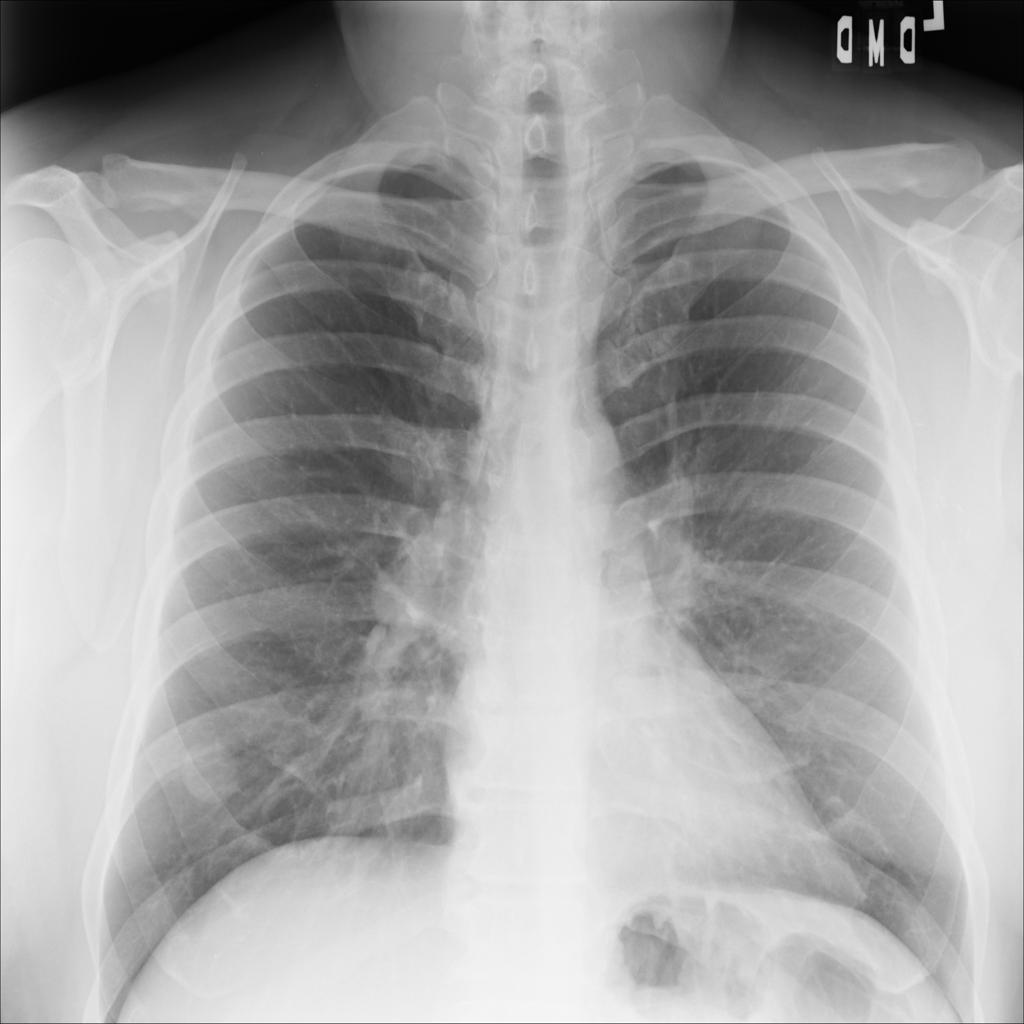nodule: (163, 712, 262, 822)
